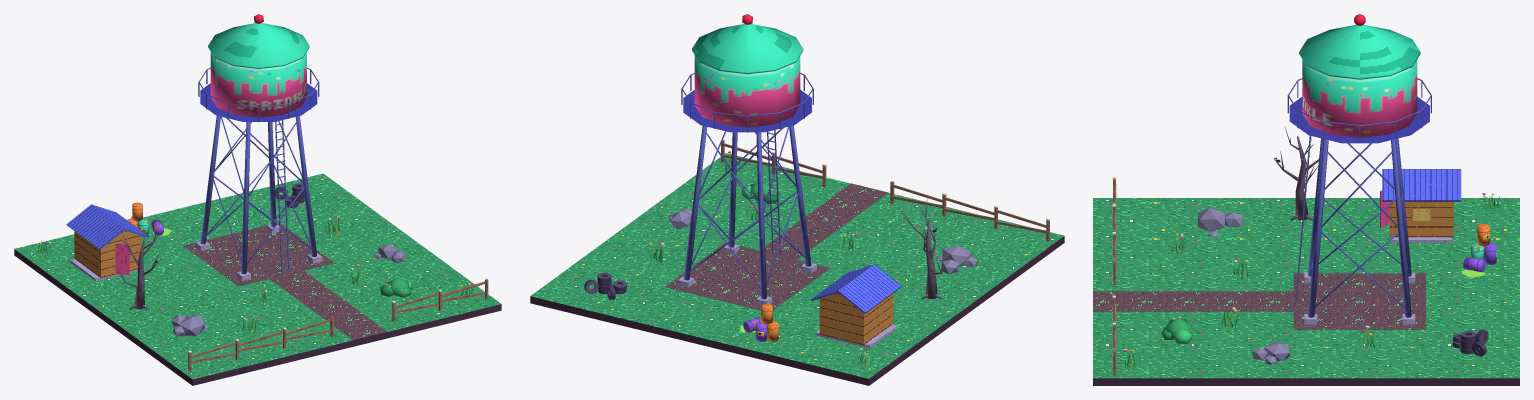
The model's file is Block Water Tower.fbx.
3 renders of one model, left to right at view 1: azimuth 30°, elevation 25°; view 2: azimuth 150°, elevation 25°; view 3: azimuth 270°, elevation 25°, orthographic. The views are drawn at different scales.
Parts seen in each view (by area): view 1: Block Water Tower mesh; view 2: Block Water Tower mesh; view 3: Block Water Tower mesh.
Part boxes in pixels (x1=…): Block Water Tower mesh: x1=14, y1=14, x2=501, y2=385; Block Water Tower mesh: x1=530, y1=14, x2=1064, y2=385; Block Water Tower mesh: x1=1093, y1=14, x2=1519, y2=385.
Bounding box in the file's own units: 20 × 15.27 × 20.
40 materials, 40 textured.
